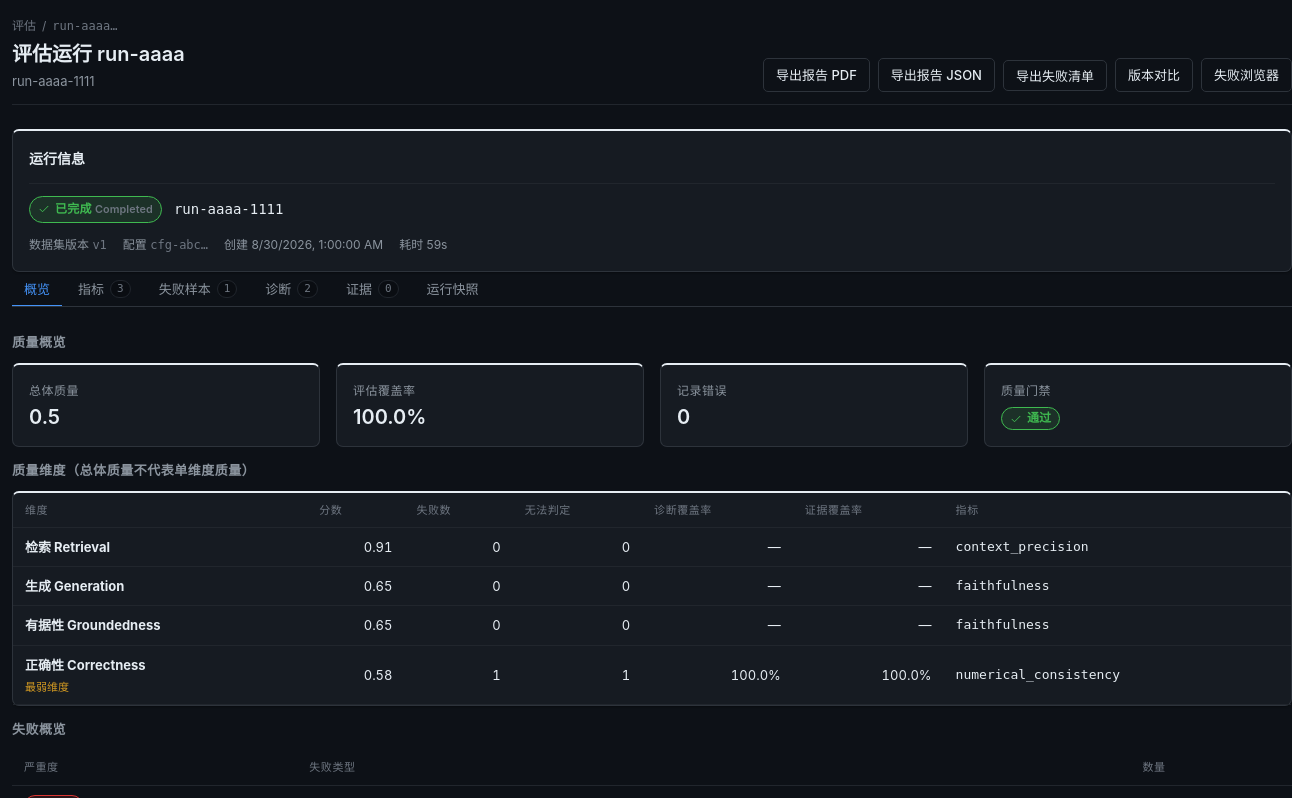
Evaluation detail › 6. score=null never renders as 0
Expected: the heading "质量概览" is shown, top-left (12, 335), bottom-right (66, 351)
Step 1. Click the tab with test id "tab-metrics" → (104, 290), box top-left (66, 272), bottom-right (143, 307)
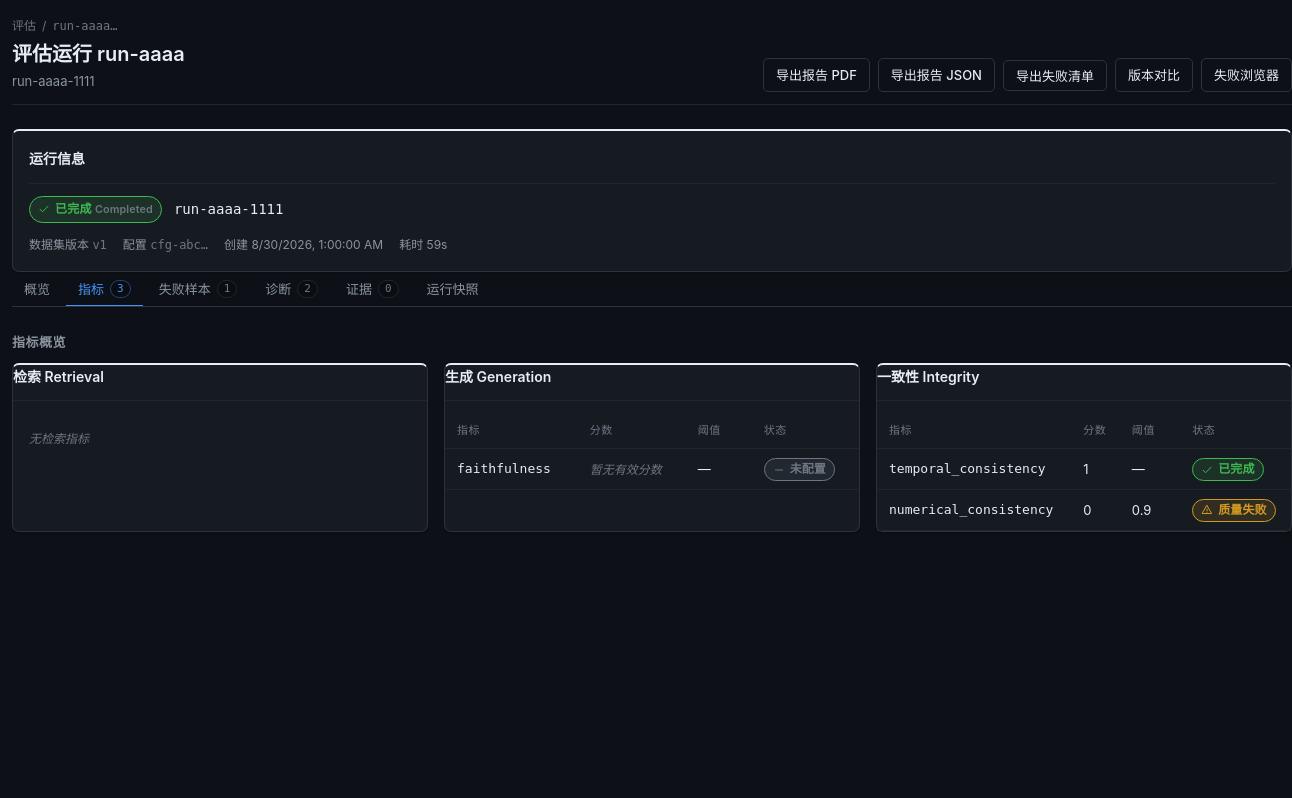
Expected: the row with test id "metric-faithfulness" does not show "0.0", top-left (445, 449), bottom-right (859, 489)
Now the row with test id "metric-faithfulness" is shown, box top-left (445, 449), bottom-right (859, 489)
Now the row with test id "metric-faithfulness" shows "暂无有效分数", box top-left (590, 462), bottom-right (662, 477)
